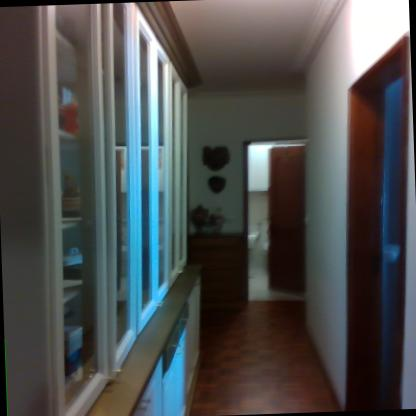semi: (232, 126, 332, 312)
